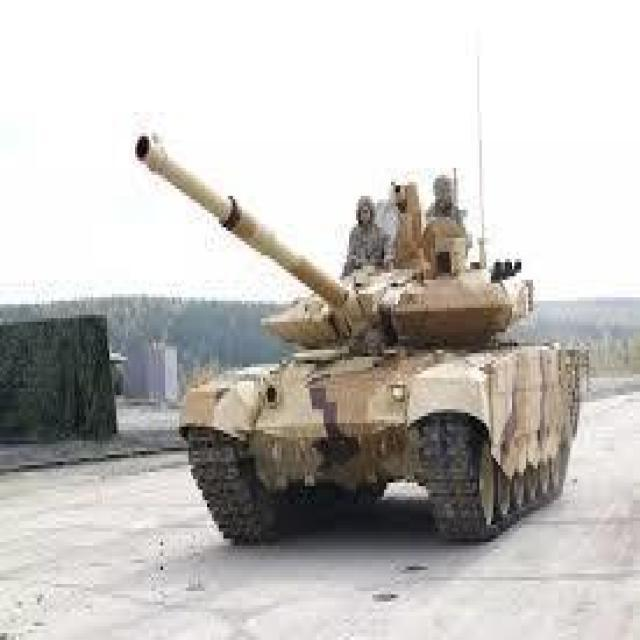MIL_MBT: (131, 133, 599, 553)
